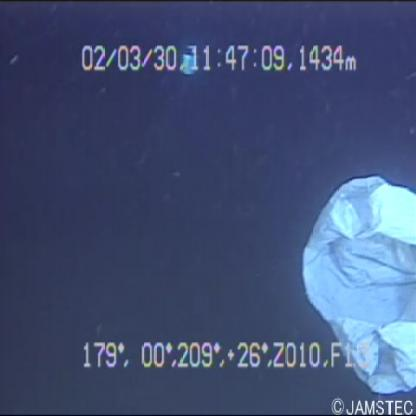Rác: (282, 131, 416, 398)
